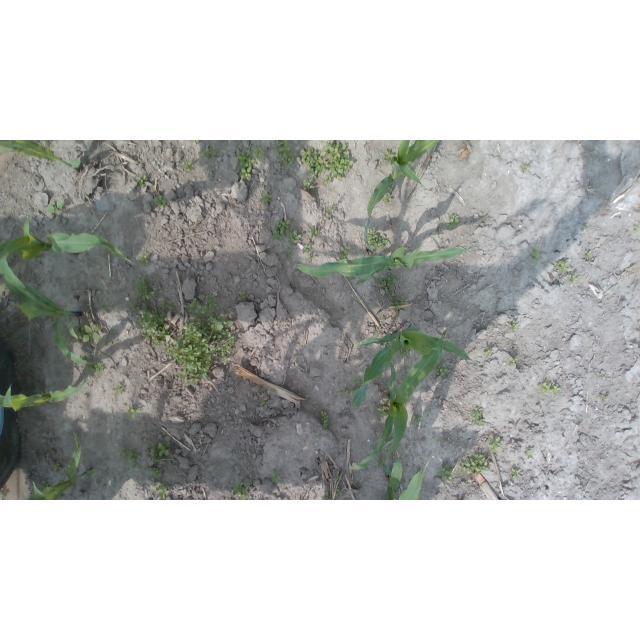Maize: (345, 319, 459, 472), (2, 237, 103, 366), (350, 327, 482, 410), (363, 141, 441, 256), (293, 244, 480, 284), (2, 214, 137, 268), (31, 432, 97, 501), (0, 378, 90, 412), (1, 140, 84, 174), (381, 452, 431, 501)
Weeds: (167, 293, 238, 388), (133, 276, 176, 347), (299, 140, 355, 190), (373, 273, 410, 315), (236, 144, 268, 180), (146, 441, 172, 464), (461, 453, 490, 473), (366, 229, 391, 252), (342, 378, 363, 405), (270, 219, 293, 242), (121, 446, 142, 471), (276, 140, 296, 165), (231, 478, 254, 499), (79, 324, 99, 345), (43, 199, 65, 217), (537, 382, 562, 395), (46, 453, 62, 473), (437, 464, 453, 484), (199, 144, 217, 161), (445, 211, 461, 229), (469, 406, 485, 424), (156, 482, 172, 500), (554, 259, 570, 275), (304, 244, 316, 265), (154, 193, 167, 211), (148, 467, 163, 482), (260, 189, 273, 206), (110, 381, 124, 396), (270, 470, 284, 485), (324, 204, 338, 219), (375, 403, 389, 418), (437, 363, 451, 377), (338, 248, 354, 260), (135, 173, 148, 187), (488, 436, 502, 449), (126, 407, 140, 420), (320, 410, 329, 428), (136, 254, 150, 265), (511, 468, 522, 481), (383, 149, 396, 160), (410, 415, 422, 426), (383, 192, 394, 204), (532, 248, 541, 262), (293, 230, 302, 244), (570, 275, 581, 286), (521, 164, 531, 175), (236, 291, 246, 302), (183, 161, 192, 172), (602, 393, 611, 404), (260, 398, 269, 408), (98, 303, 107, 313), (310, 226, 318, 237), (286, 247, 293, 259), (526, 449, 534, 459), (512, 321, 519, 332), (484, 349, 493, 357), (585, 251, 593, 258), (511, 359, 517, 366), (636, 225, 640, 232)
